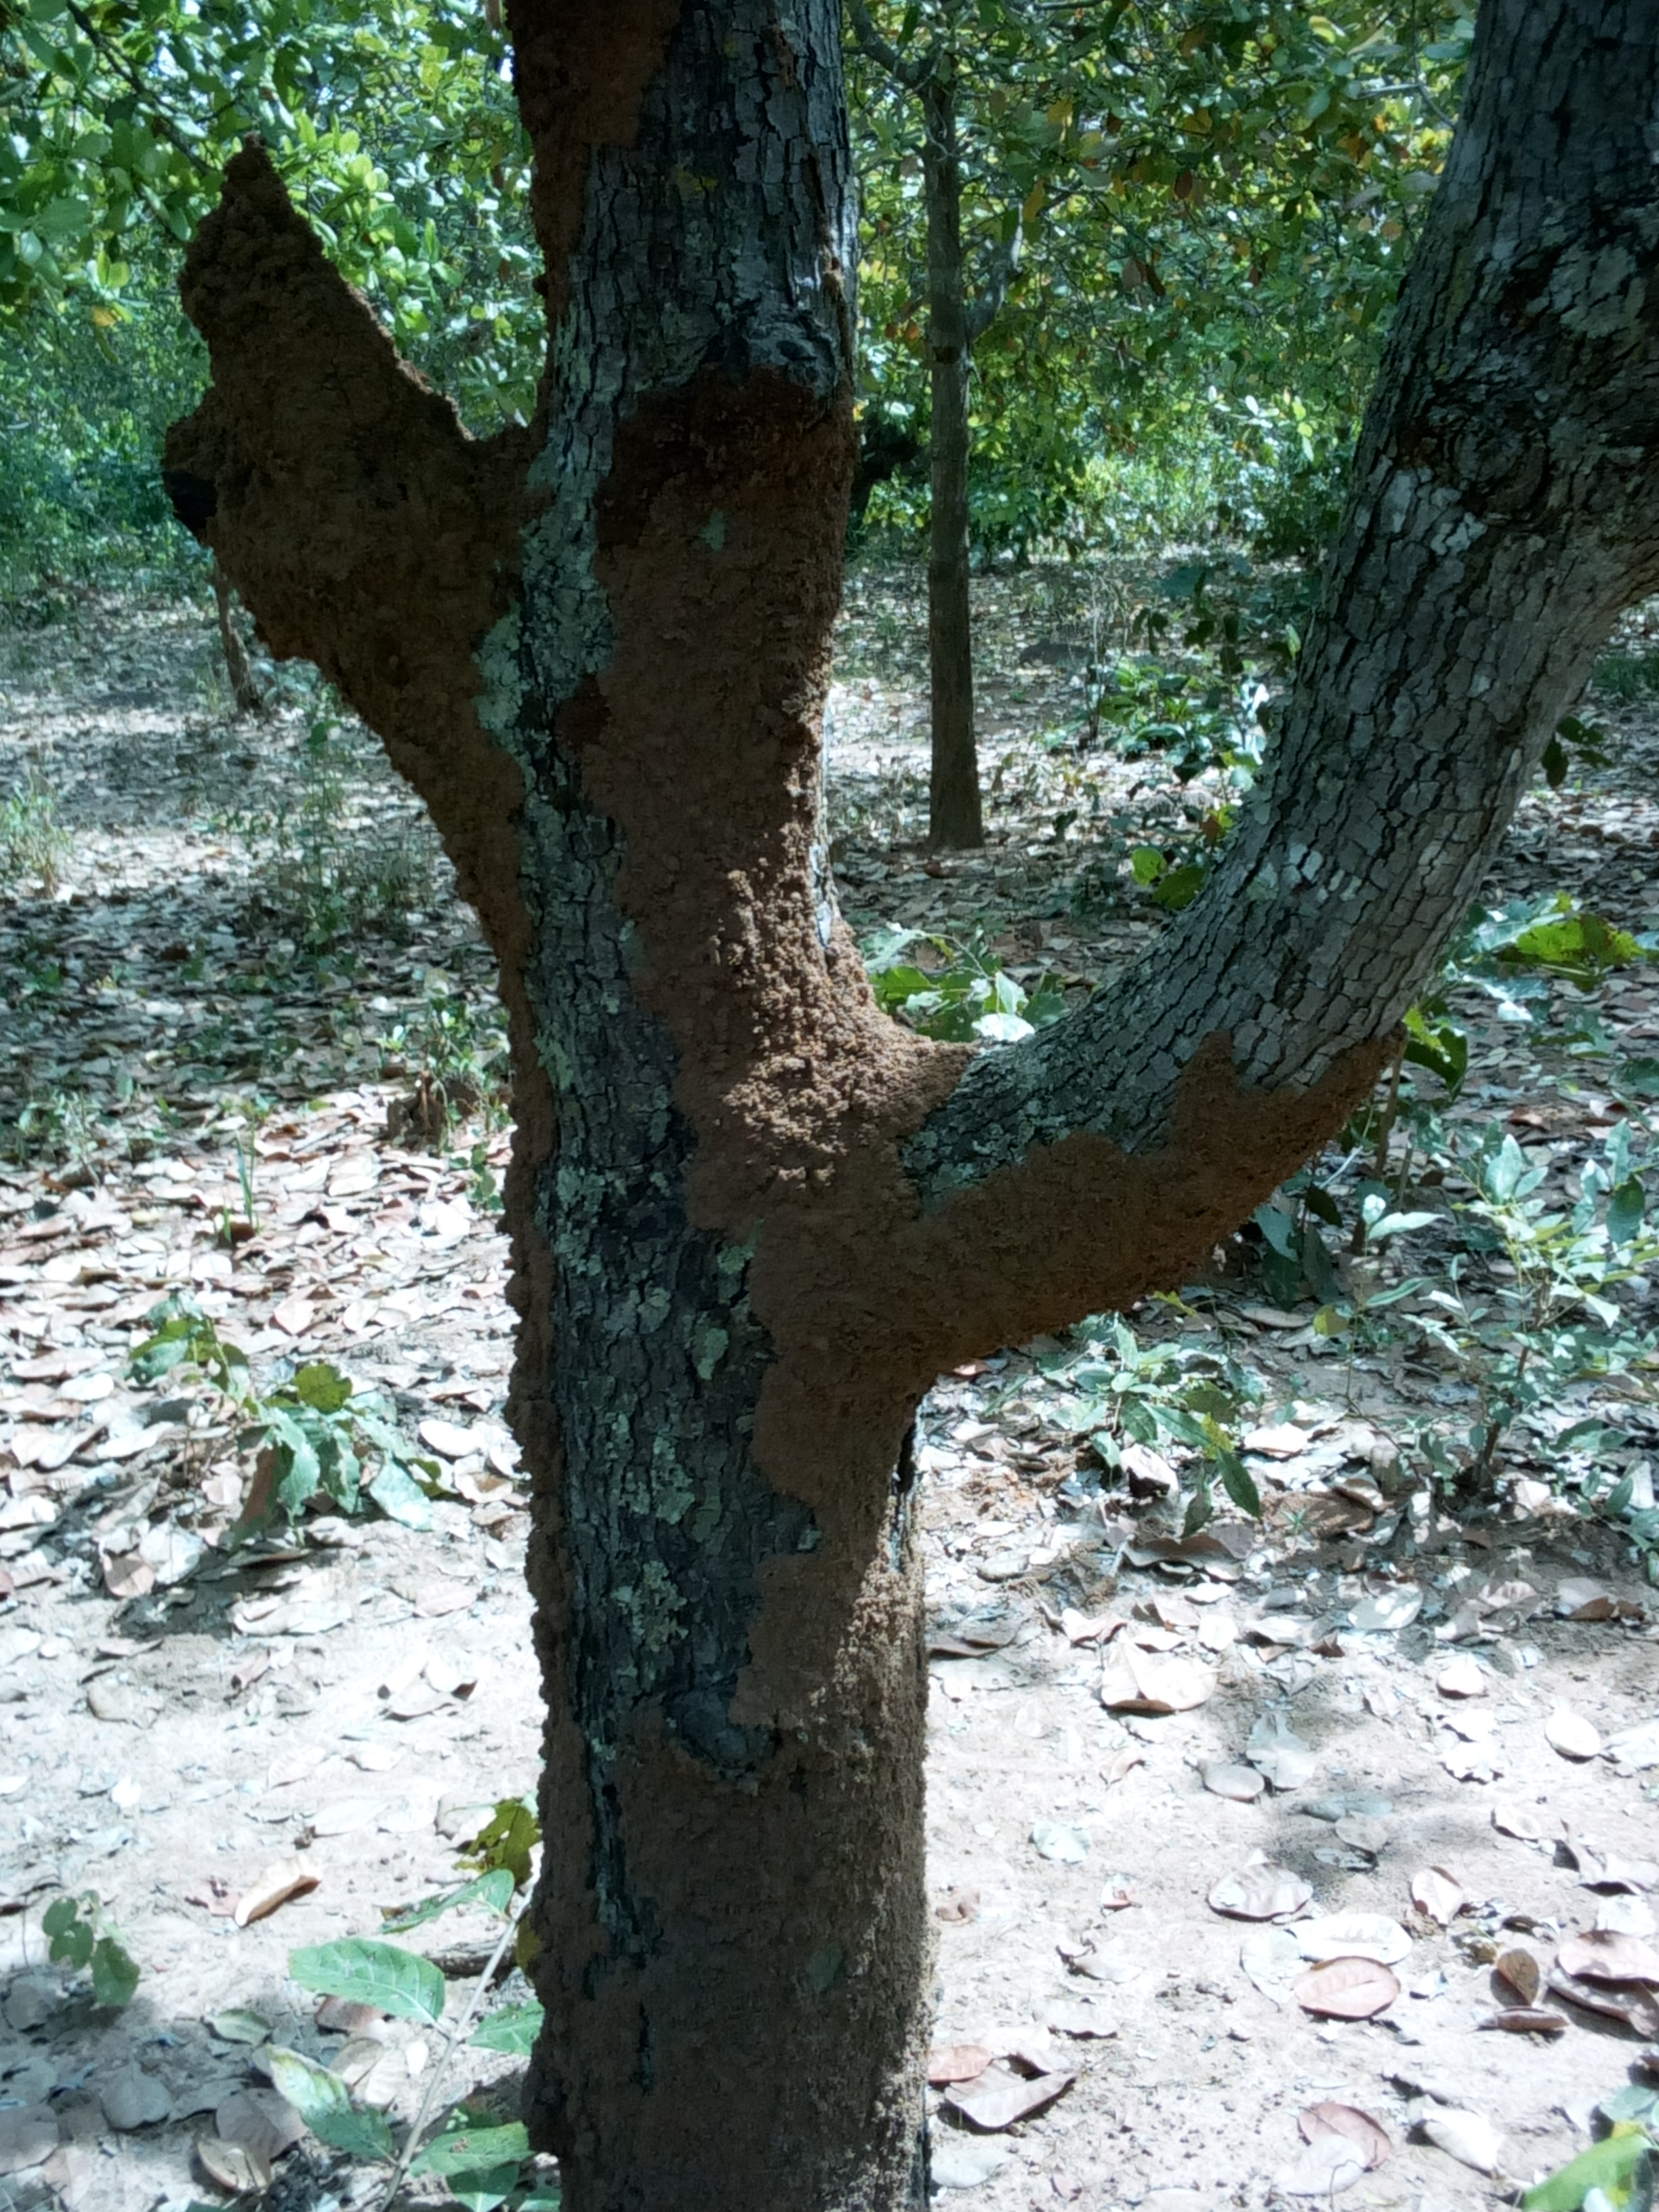Termites: (606, 343, 861, 1191), (545, 1770, 927, 2212), (209, 157, 481, 770), (798, 1096, 1281, 1332), (758, 1374, 911, 1759)
